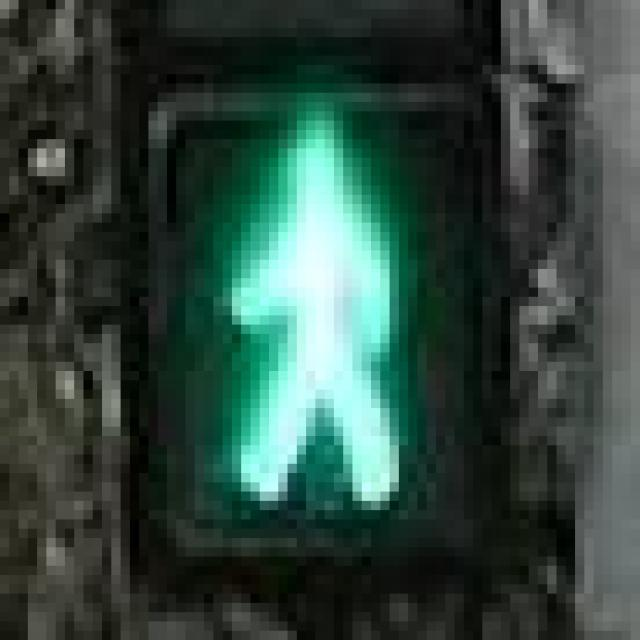geen-crossing: (148, 92, 473, 520)
